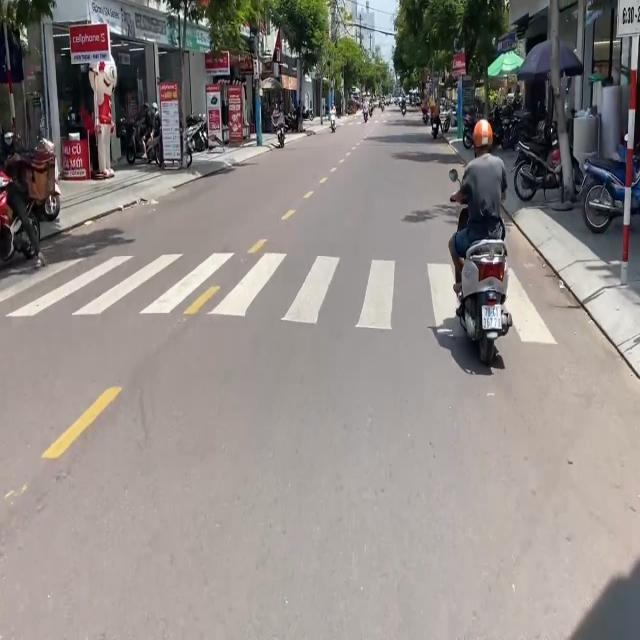walk-crossing: (44, 252, 558, 341)
